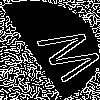W: (25, 25, 100, 88)
